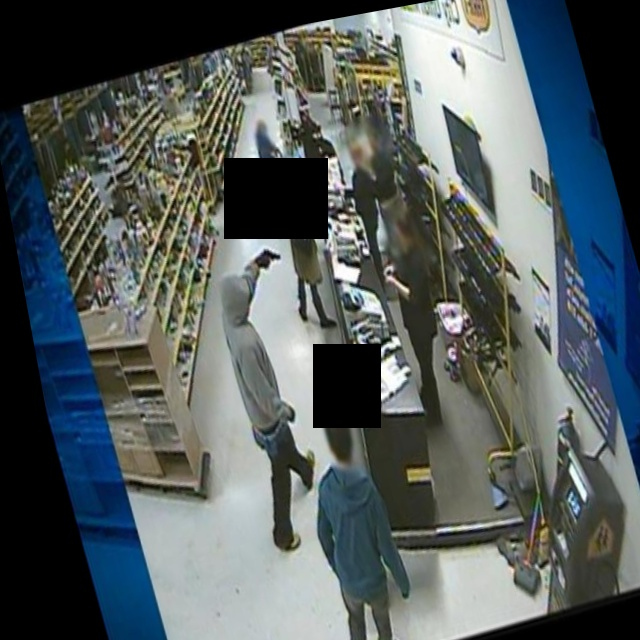gun: (251, 239, 291, 284)
